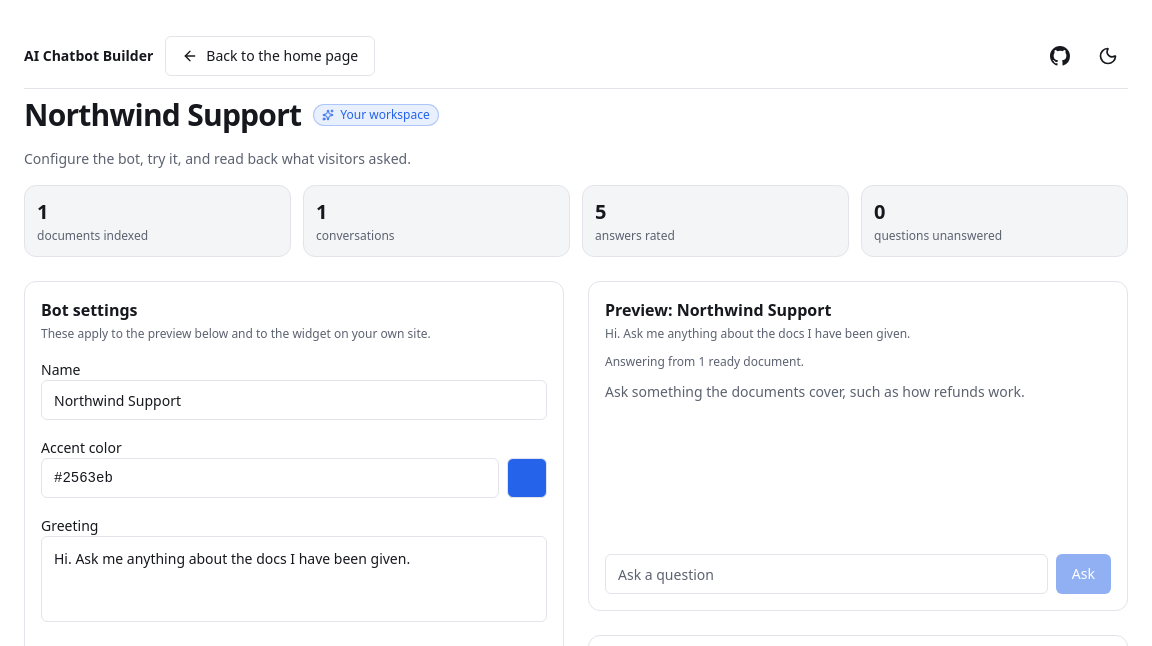
Scenario: 5.1 settings › rejects a malformed color, names the field, and keeps the previous values
The image size is (1152, 646).
Expected: the heading "Northwind Support" is shown, [24,97,301,133]
Replace the text in the field labelled "Accent color" with "blue": point(270, 478) [41,458,499,498]
(page scrolled)
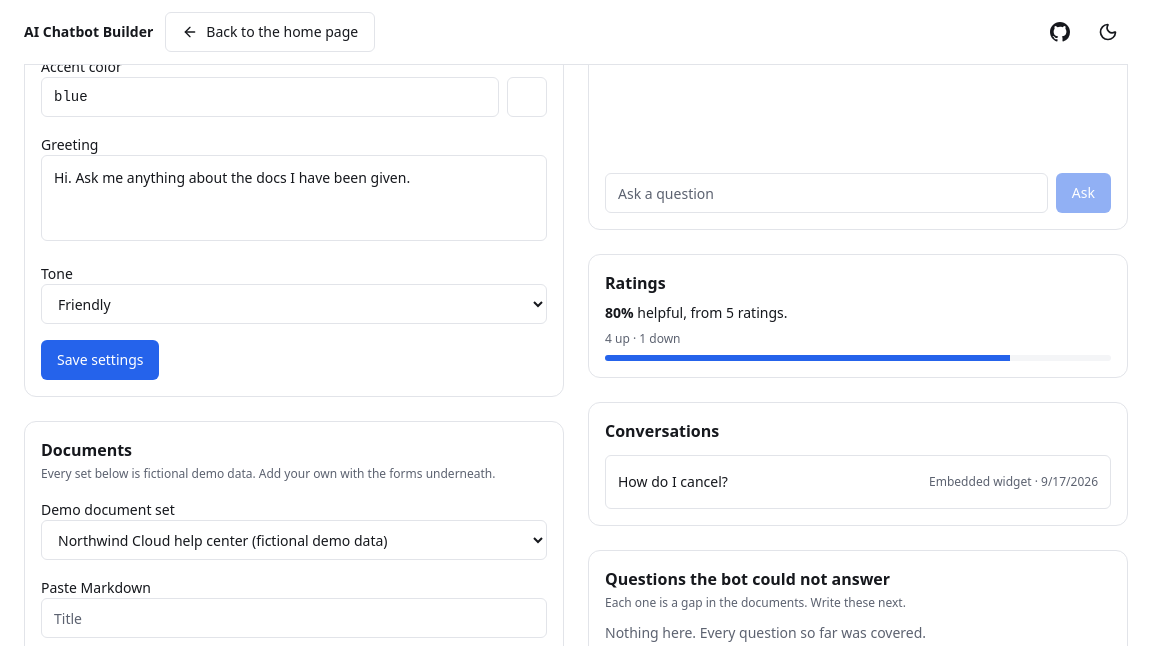
Click the button "Save settings": point(100, 360) [41,340,160,380]
(page scrolled)
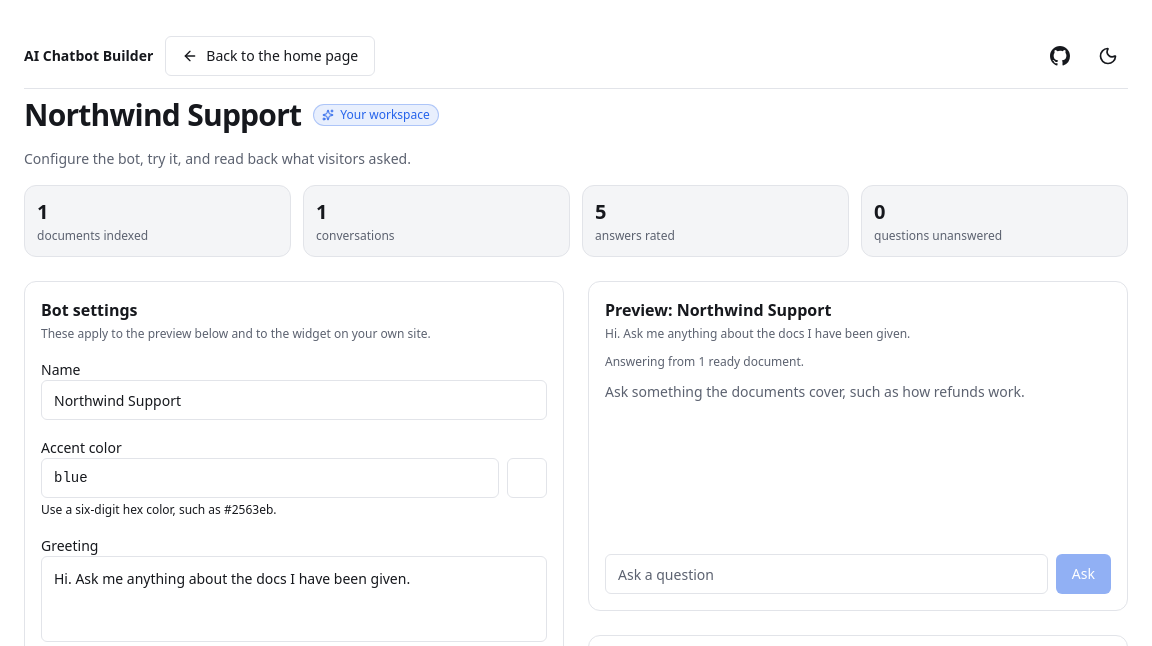
Expected: the heading "Northwind Support" is shown, [24,97,301,133]
Result: the text "Use a six-digit hex color, such as #2563eb." is shown at [41,501,276,518]
